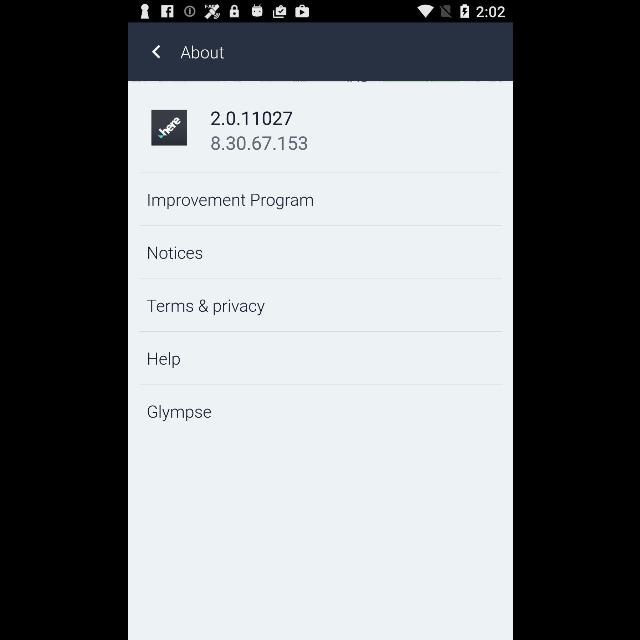icon: (152, 45, 160, 59)
image: (151, 110, 187, 146)
text: (148, 194, 312, 210), (146, 300, 264, 316), (210, 136, 308, 150), (147, 404, 211, 422), (210, 112, 292, 126), (146, 247, 202, 260), (179, 45, 223, 59), (146, 352, 180, 368)
toolbar: (128, 23, 512, 81)
uppertaskbar: (128, 1, 512, 23)
